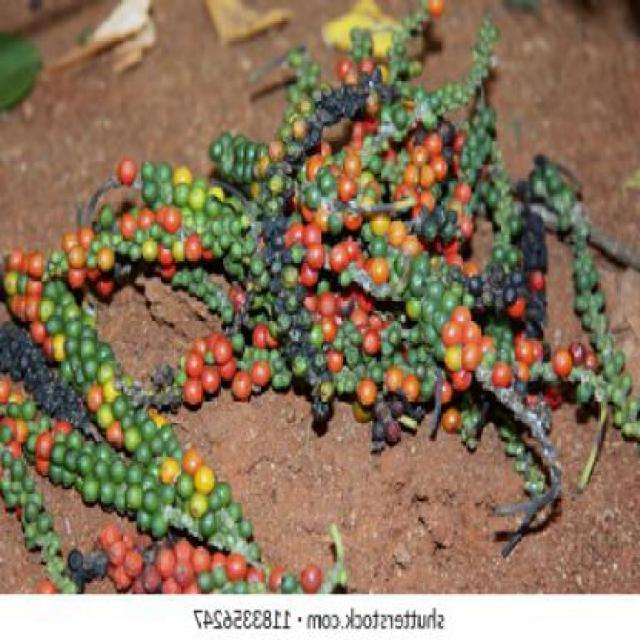RIPE: (17, 222, 100, 323), (103, 537, 240, 589), (314, 233, 380, 330)
UNRIPE: (573, 169, 610, 443)
